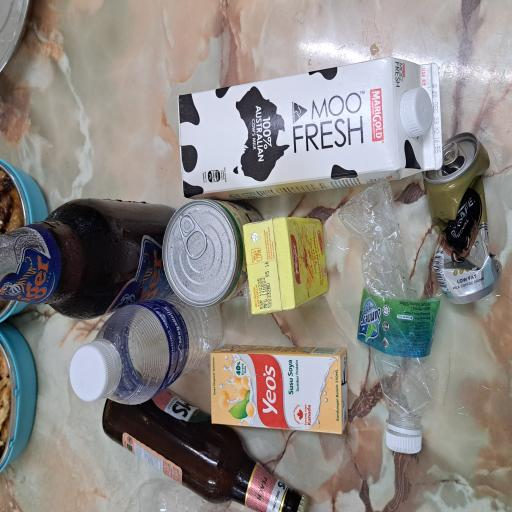can: (152, 216, 234, 350)
drink carton: (232, 235, 341, 512), (58, 281, 126, 464), (148, 323, 222, 438)
glass bottle: (0, 136, 101, 414), (144, 0, 234, 238)
plastic bottle: (80, 128, 164, 296), (64, 449, 251, 512)
plastic bottle cap: (82, 92, 128, 154)
pop tab: (190, 238, 226, 276)
